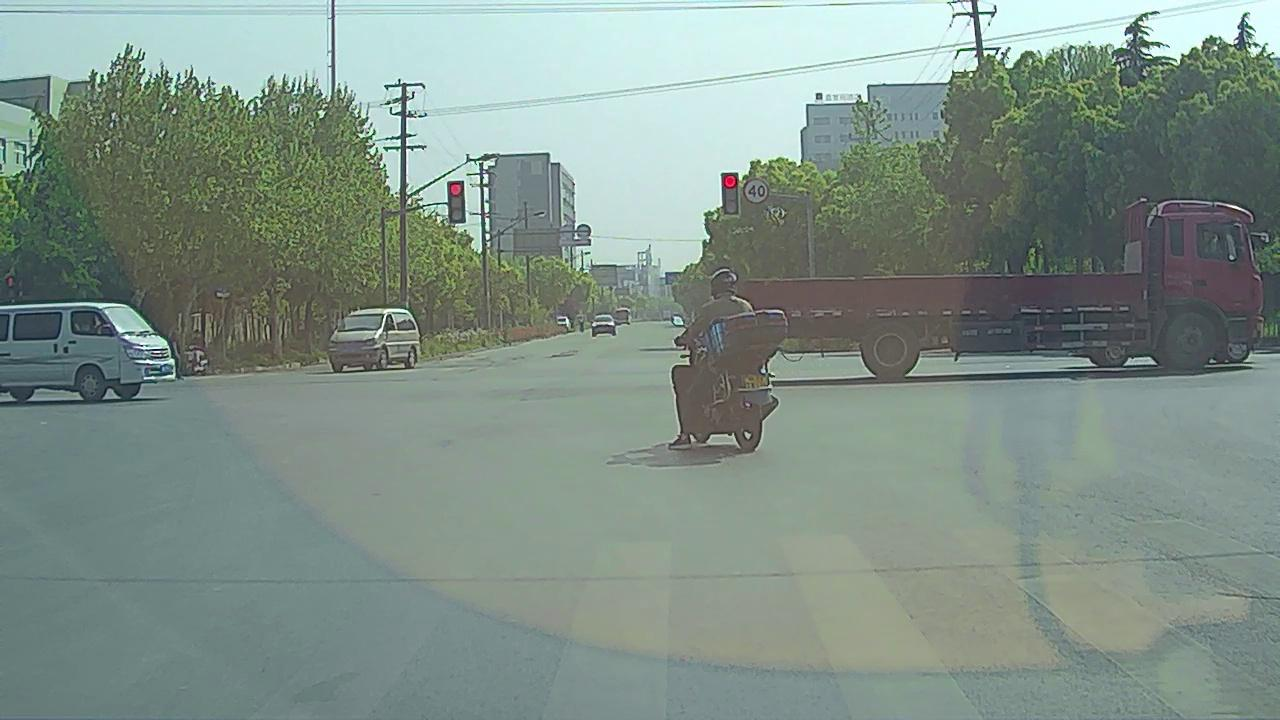traffic_light: (448, 183, 466, 224), (723, 173, 738, 216)
